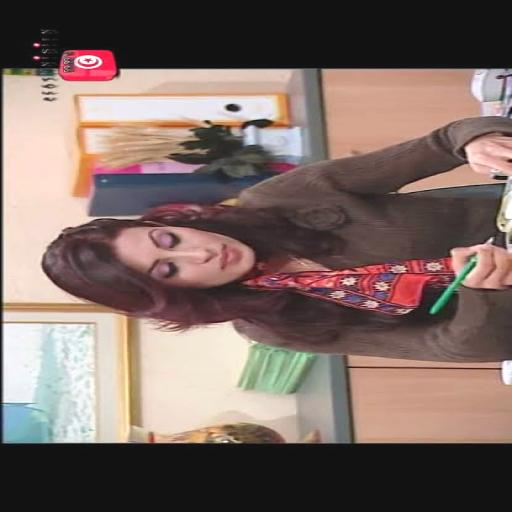Dalanda: (100, 220, 257, 289)
